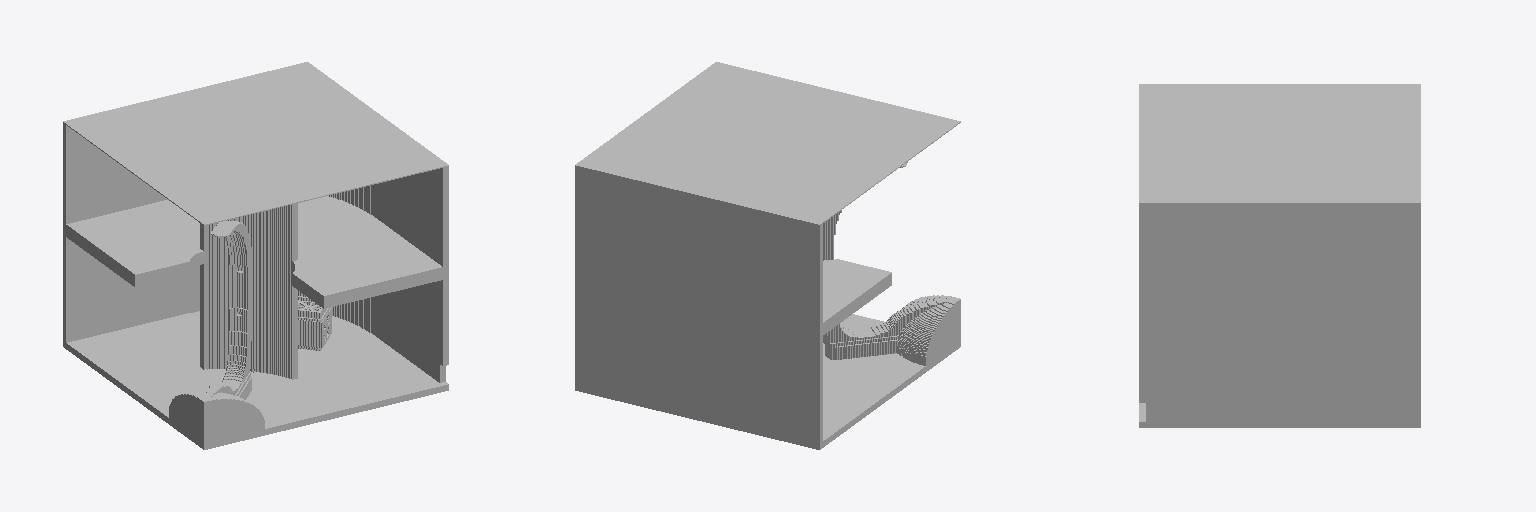
Rendered from FinalRoom_roof.obj.
3 views of the same model, side by side, from view 1: azimuth 30°, elevation 25°; view 2: azimuth 150°, elevation 25°; view 3: azimuth 270°, elevation 25° (orthographic).
Parts seen in each view (by area): view 1: object 1; view 2: object 1; view 3: object 1.
Part boxes in pixels (x1,y1,x2,y2): object 1: (63,62,448,449); object 1: (575,62,960,449); object 1: (1139,84,1420,427).
Size of the model in its own units: 24 by 21.1 by 24.